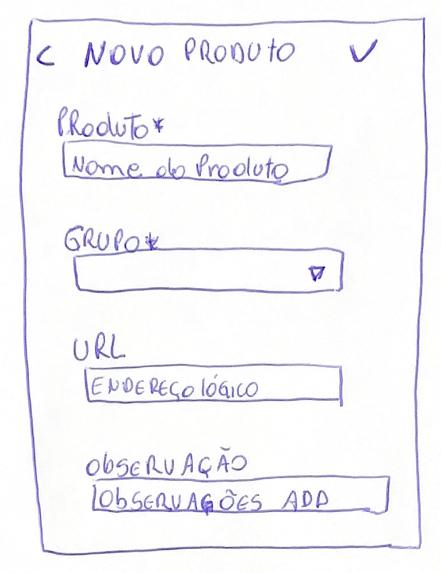Label: (34, 37, 378, 67), (84, 446, 248, 479), (57, 106, 165, 140), (63, 226, 160, 252), (72, 332, 127, 361)
ListPicker: (73, 248, 345, 294)
Screen: (18, 17, 428, 556)
TextBox: (91, 474, 390, 515), (61, 140, 333, 185), (83, 365, 343, 406)
